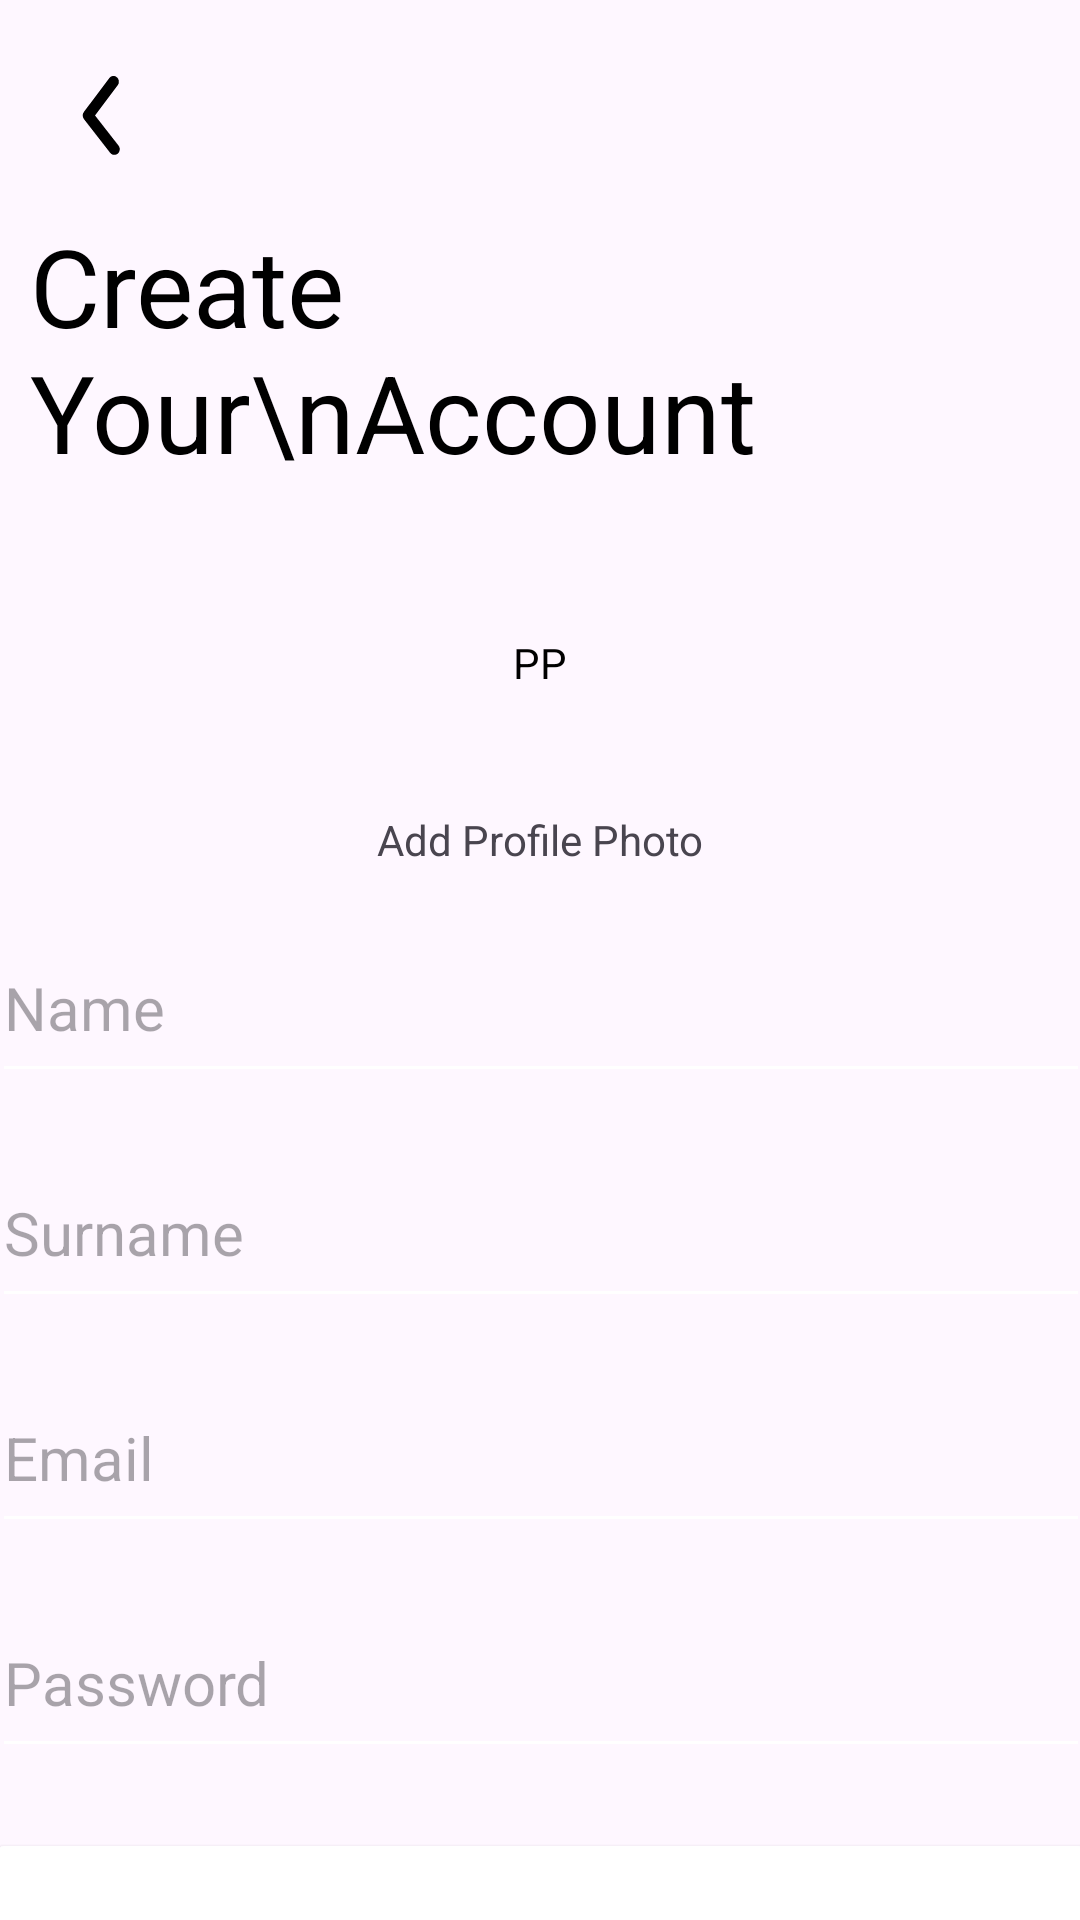

Icon bounding boxes for this 1080px×1920px phone screenshot, format {"left": x1, "top": y1, "right": x2, "bottom": y2}:
back: {"left": 82, "top": 76, "right": 120, "bottom": 155}
